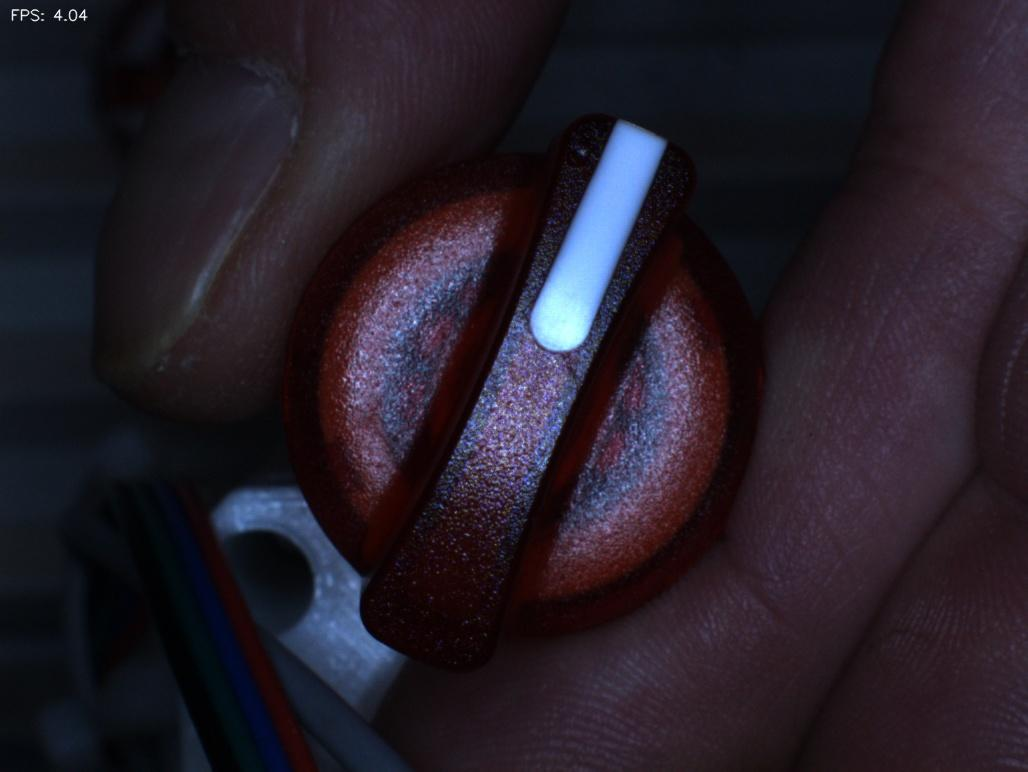Choc: (533, 101, 620, 195)
